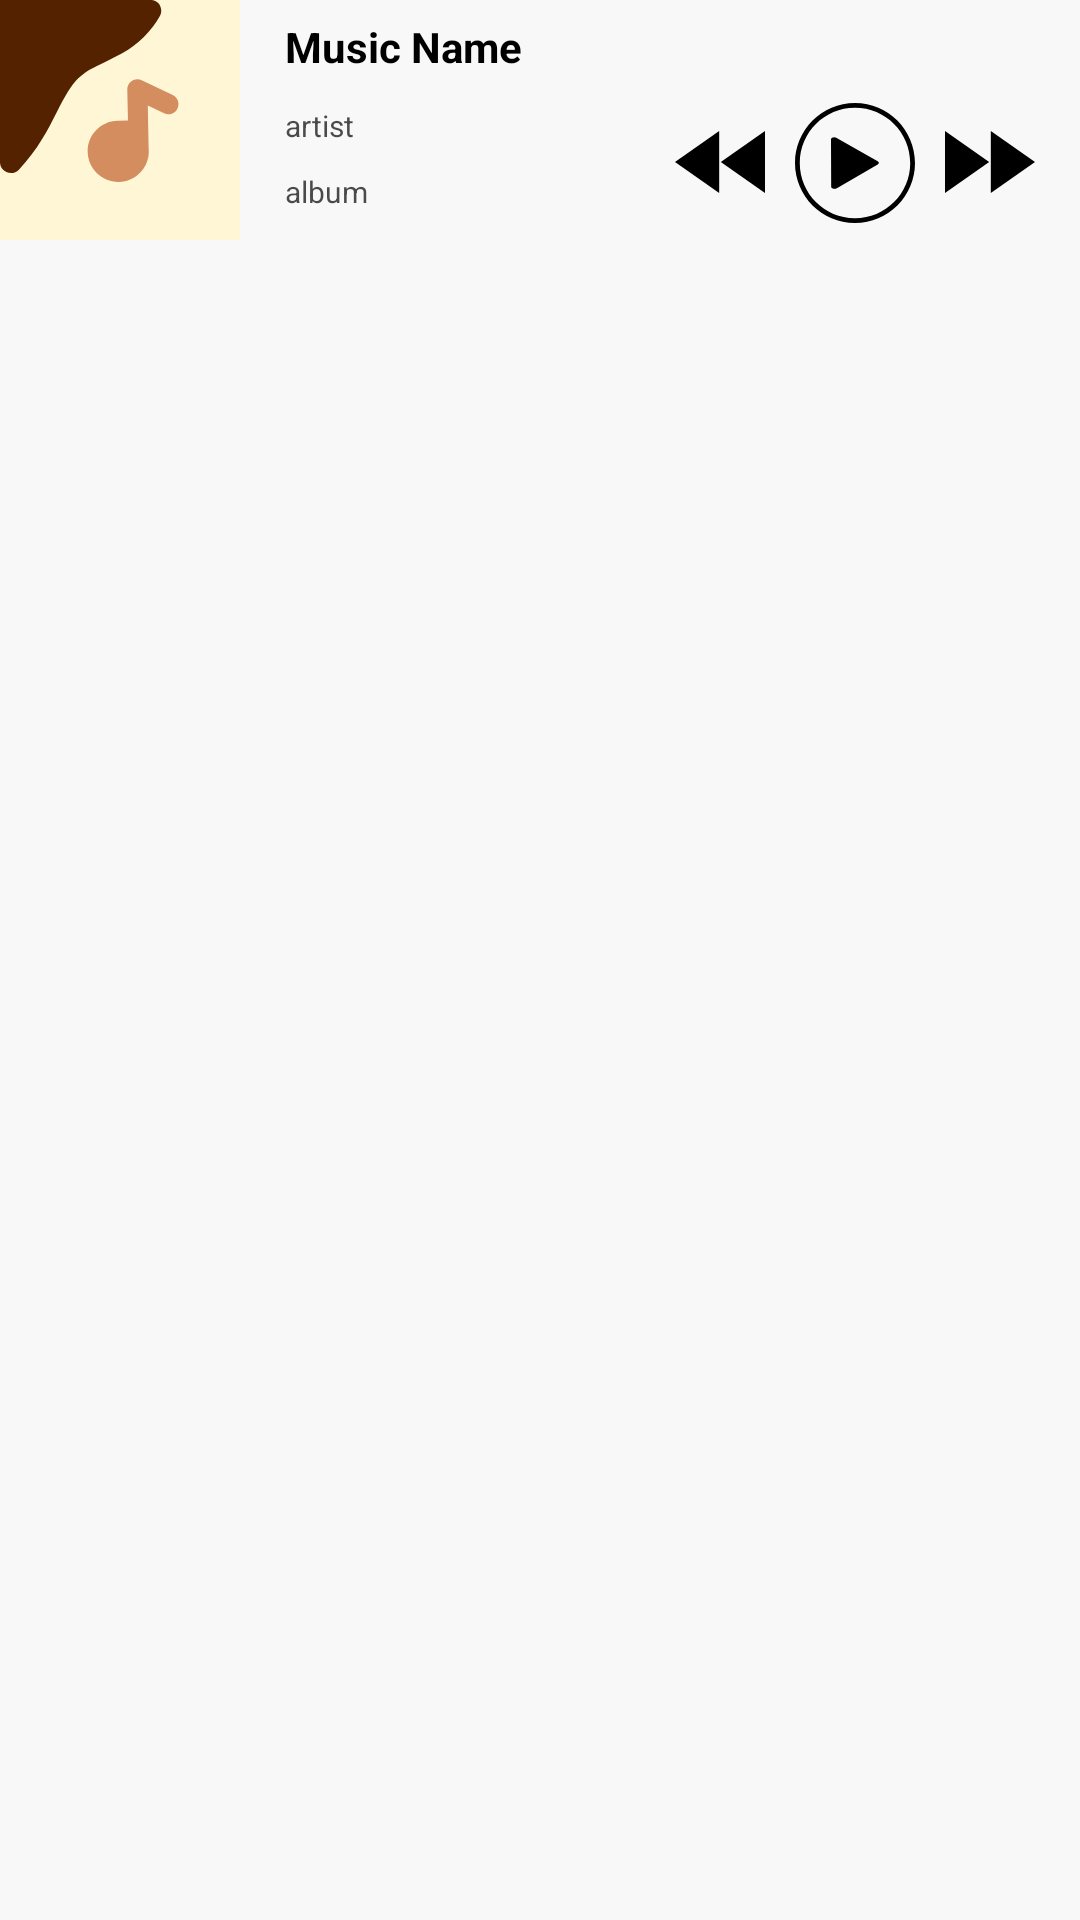

Icons on this 1080*1920 Android screen, each with its box as (x1, y1, x2, y2):
note: (0, 0, 240, 240)
widget forward: (945, 131, 1035, 193)
widget play: (795, 103, 915, 223)
widget rewind: (675, 131, 765, 193)
